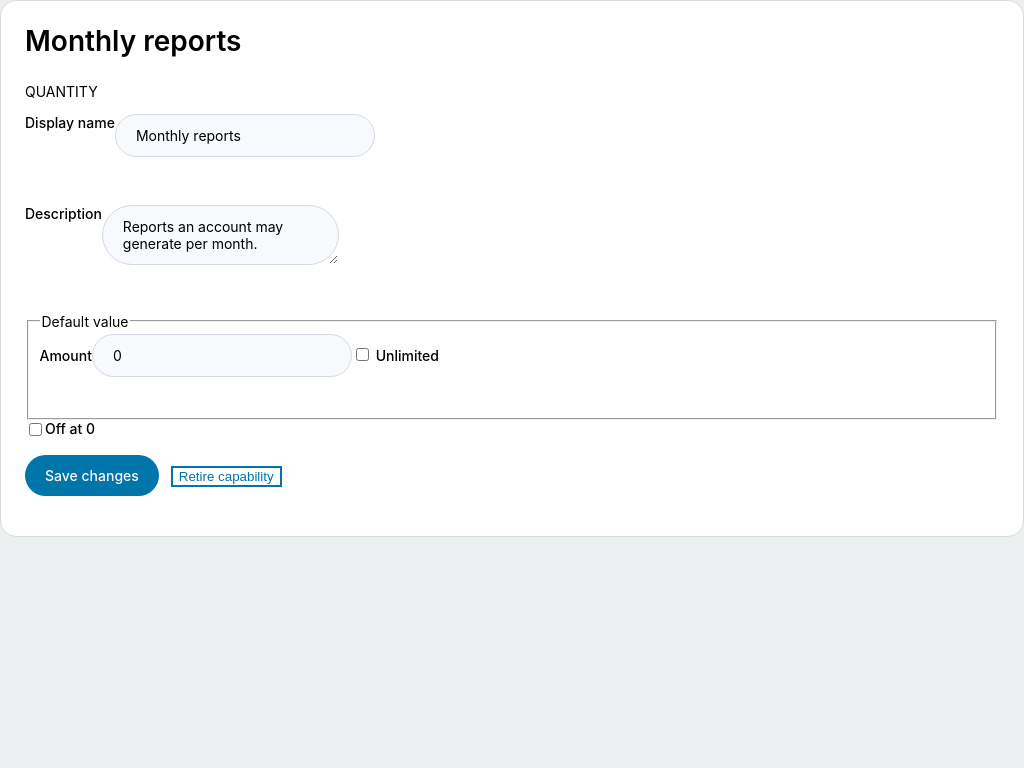
Test: CapabilityDetailRoute › does not retire on the initial click — Cancel truly cancels
The image size is (1024, 768).
Expected: the heading "Monthly reports" is shown, left=25, top=24, right=241, bottom=58
Step 1. Click the button "Retire capability" → (226, 477), box left=171, top=466, right=282, bottom=487
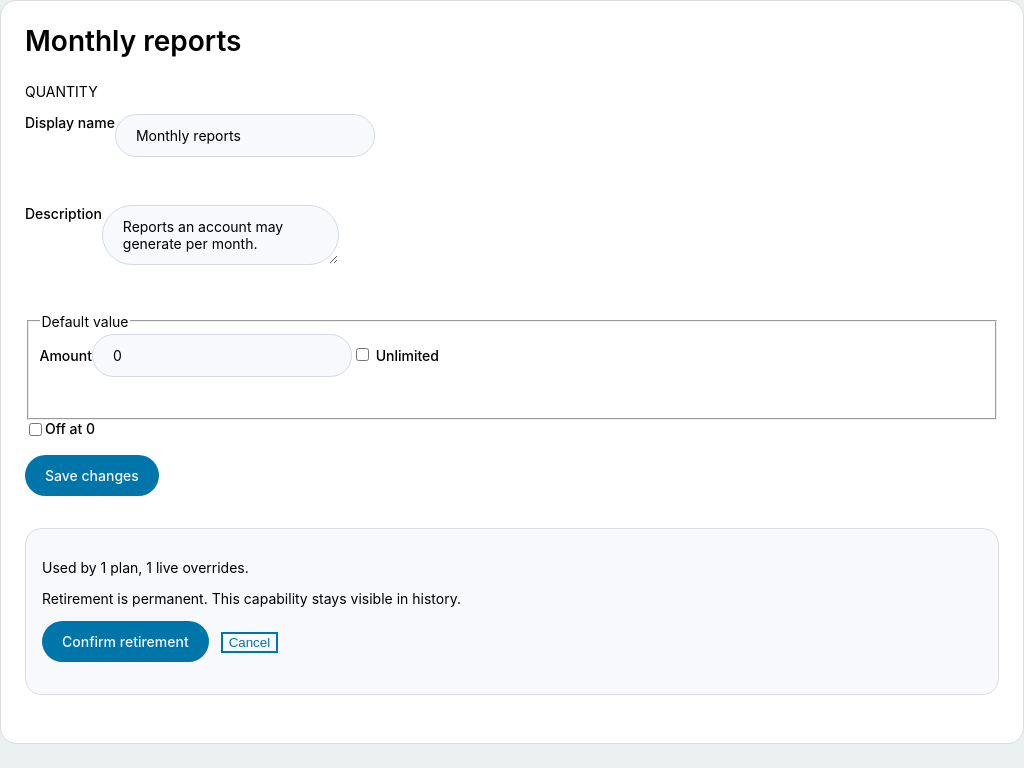
Result: the text "Used by 1 plan, 1 live overrides." is shown at left=42, top=559, right=249, bottom=576
Step 2. Click the button "Cancel" → (249, 643), box left=221, top=632, right=278, bottom=653
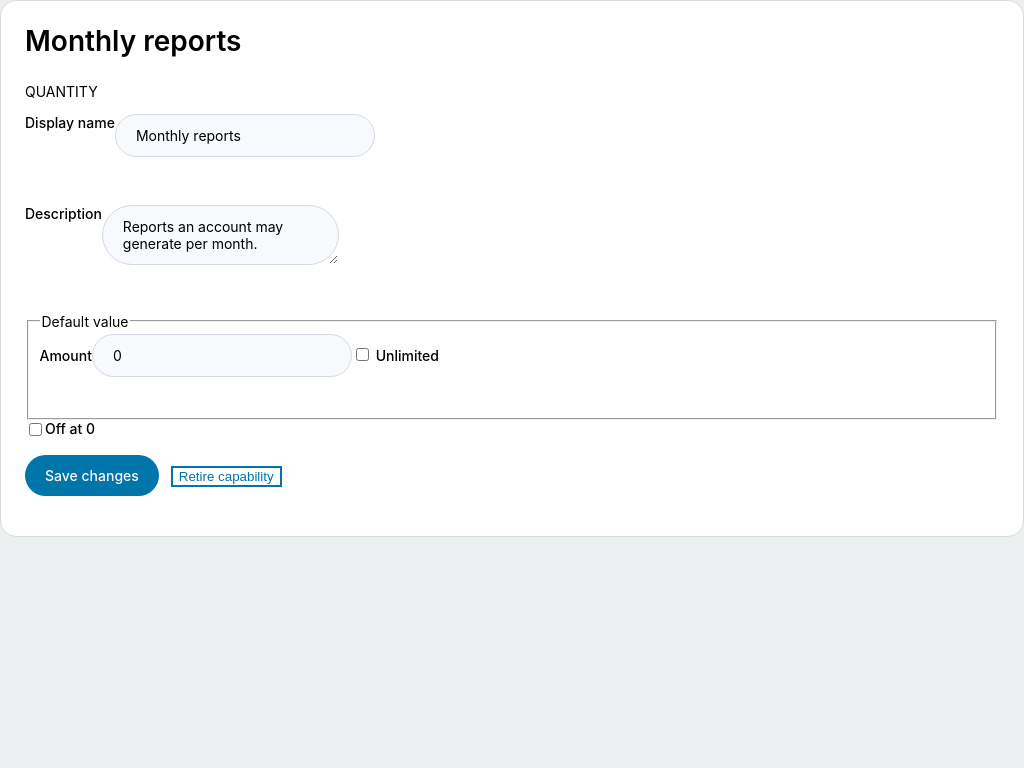
Result: the text "Used by 1 plan" is gone
